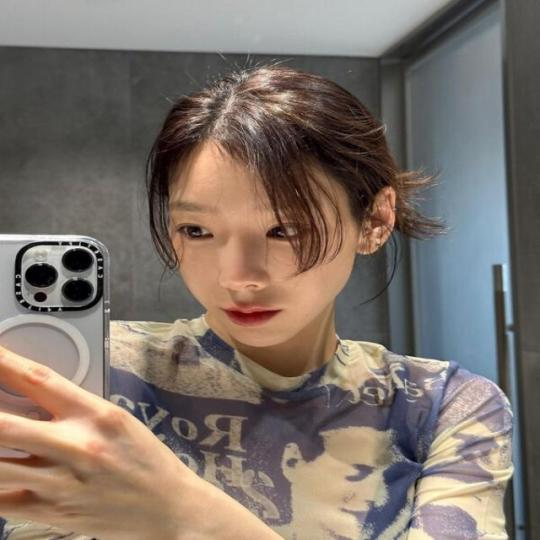phone: (3, 228, 127, 518)
